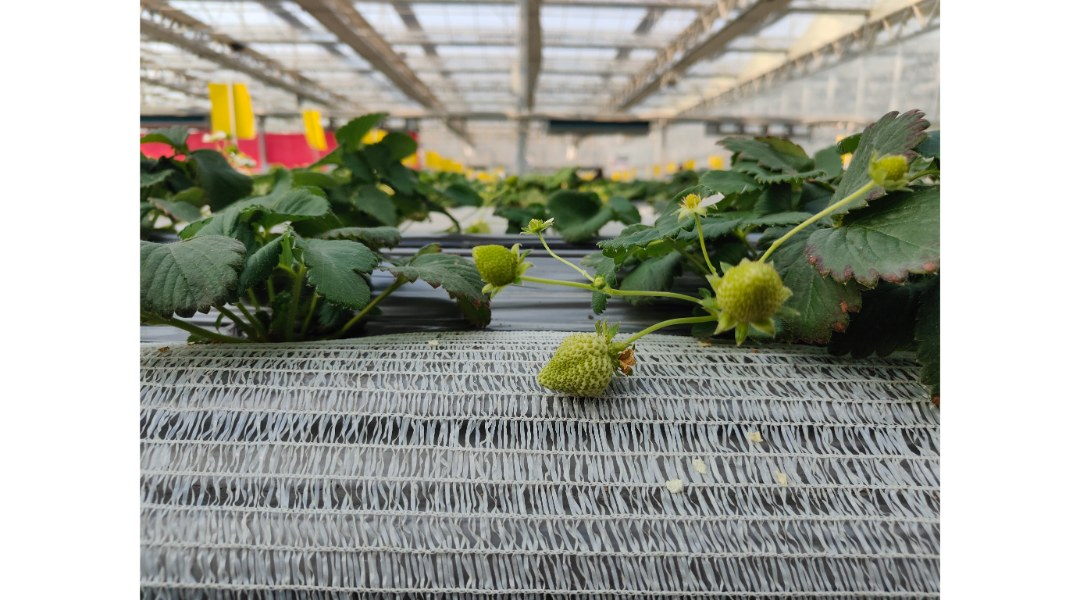berry: (702, 252, 806, 345), (526, 317, 636, 400), (460, 235, 531, 297), (864, 154, 921, 193)
flower: (665, 190, 736, 220)
strain: (757, 190, 861, 272), (618, 276, 713, 313), (614, 319, 710, 355), (543, 235, 592, 272), (525, 272, 585, 299)
